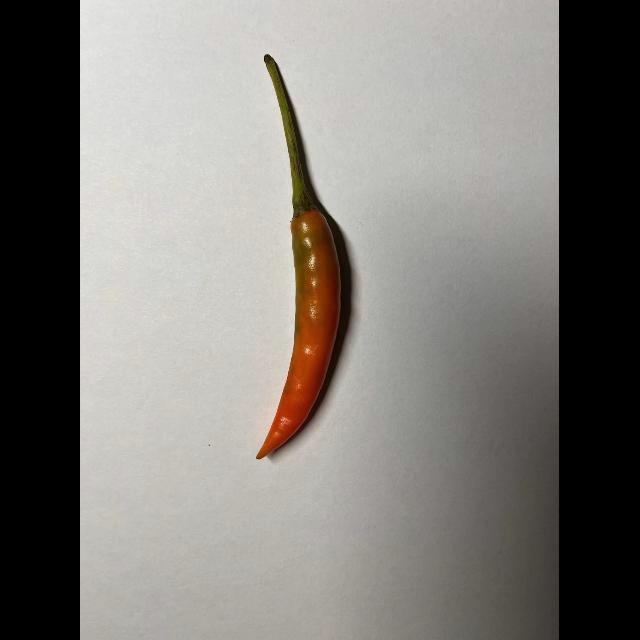chili_pepper: (248, 50, 360, 466)
